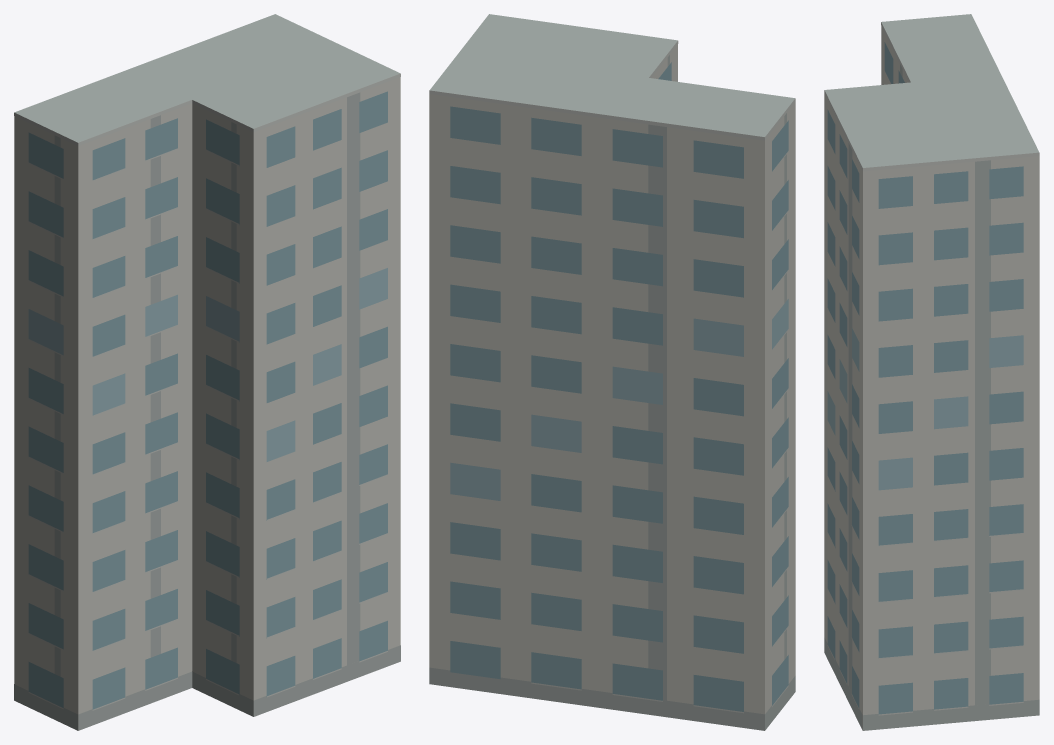
Rendered from residential-c8b352b6-06dc-4596-b705-0d972204e270.glb.
3 views of the same model, side by side, from view 1: azimuth 30°, elevation 25°; view 2: azimuth 150°, elevation 25°; view 3: azimuth 270°, elevation 25° (orthographic). The views are drawn at different scales.
Parts seen in each view (by area): view 1: residential-c8b352b6-06dc-4596-b705-0d972204e270.tmp; view 2: residential-c8b352b6-06dc-4596-b705-0d972204e270.tmp; view 3: residential-c8b352b6-06dc-4596-b705-0d972204e270.tmp.
Boxes of the visible parts, x1,y1,x2,y2 form: residential-c8b352b6-06dc-4596-b705-0d972204e270.tmp: (14,14,400,730); residential-c8b352b6-06dc-4596-b705-0d972204e270.tmp: (429,14,795,730); residential-c8b352b6-06dc-4596-b705-0d972204e270.tmp: (824,14,1039,730).
Bounding box in the file's own units: 23.49 × 40 × 13.86.
